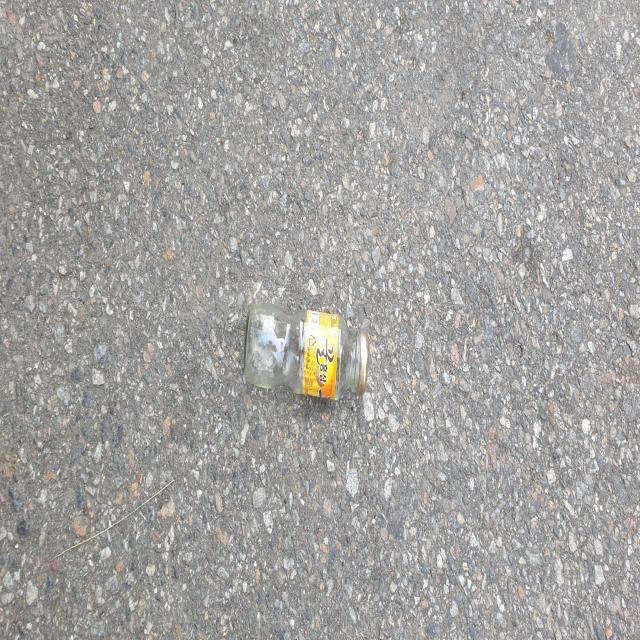glass: (244, 303, 369, 399)
